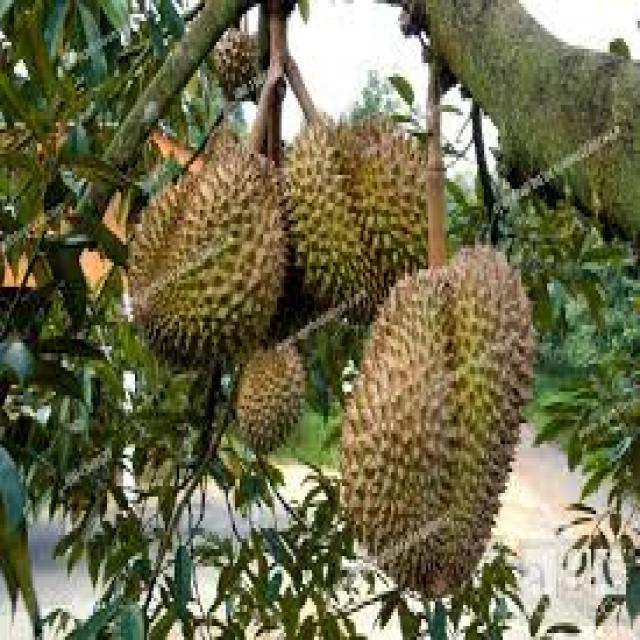mature: (341, 248, 534, 596), (129, 139, 288, 363), (288, 118, 428, 305), (236, 346, 305, 450)
